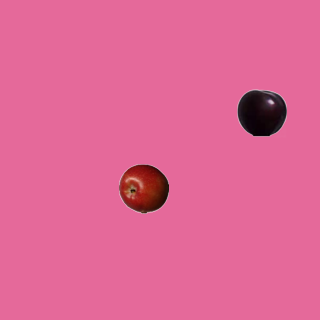Apple Braeburn: (118, 163, 168, 213)
Cherry Wax Black: (236, 87, 286, 137)
